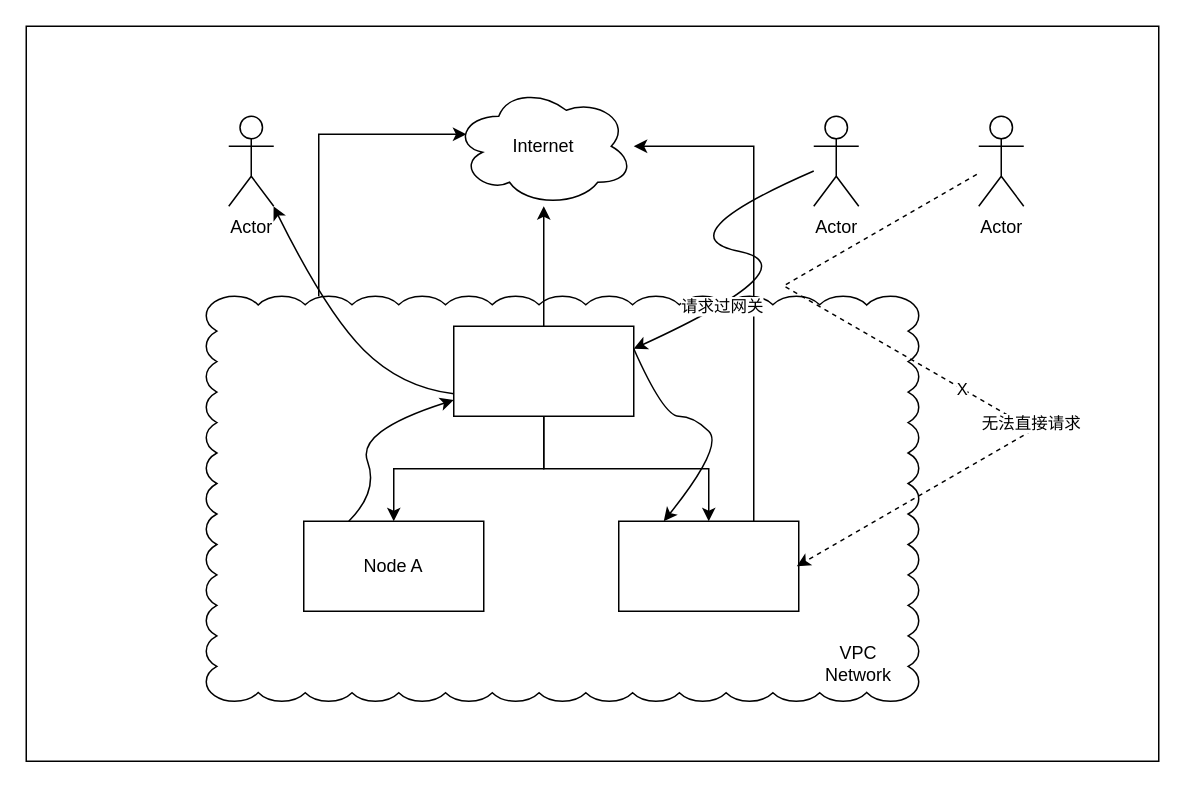
Some shapes in this 1185 by 788 pixel diagram are drawn without their labels. The centre of each missing label's shape, as x and y in pixels:
"Node B" goes at (x=708, y=565).
"Proxy" goes at (x=543, y=370).
